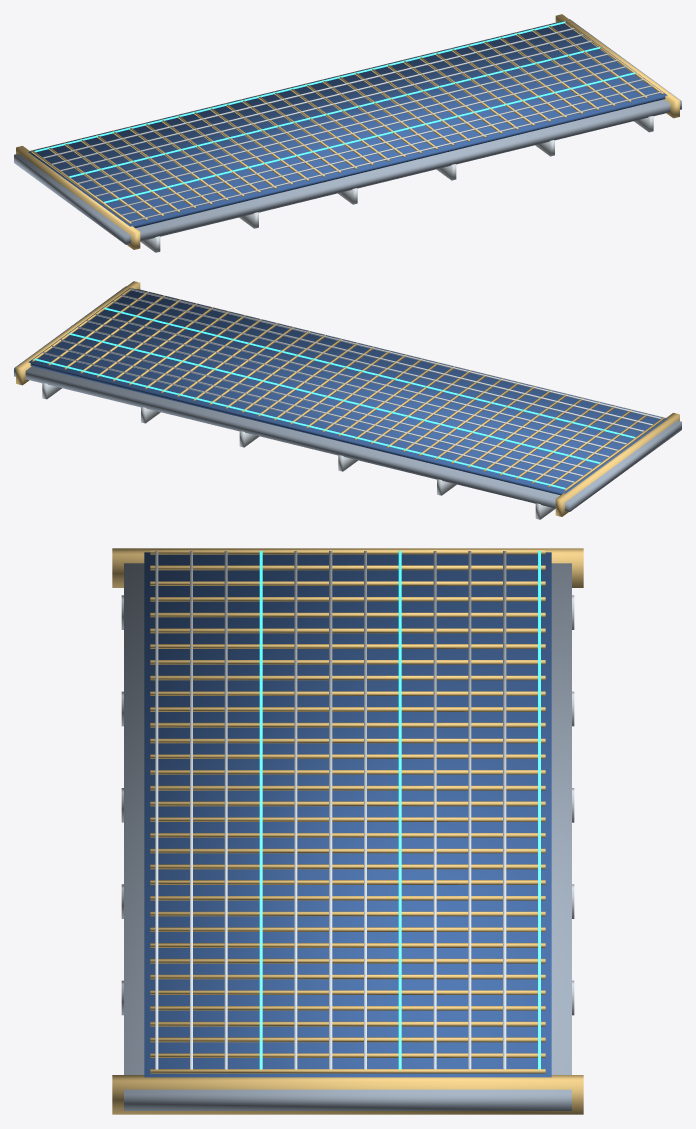
The model's file is 20_L90_Aurora1StarboardSolarArray.fbx.
The picture shows the model from 3 angles, top to bottom: view 1: azimuth 30°, elevation 25°; view 2: azimuth 150°, elevation 25°; view 3: azimuth 270°, elevation 25°; orthographic projection. The views are drawn at different scales.
Parts seen in each view (by area): view 1: L90_Aurora1StarboardSolarArra_Part_0001, L90_Aurora1StarboardSolarArra_Part_0005, L90_Aurora1StarboardSolarArra_Part_0000, L90_Aurora1StarboardSolarArra_Part_0003, L90_Aurora1StarboardSolarArra_Part_0002, L90_Aurora1StarboardSolarArra_Part_0004; view 2: L90_Aurora1StarboardSolarArra_Part_0001, L90_Aurora1StarboardSolarArra_Part_0005, L90_Aurora1StarboardSolarArra_Part_0000, L90_Aurora1StarboardSolarArra_Part_0003, L90_Aurora1StarboardSolarArra_Part_0002, L90_Aurora1StarboardSolarArra_Part_0004; view 3: L90_Aurora1StarboardSolarArra_Part_0001, L90_Aurora1StarboardSolarArra_Part_0003, L90_Aurora1StarboardSolarArra_Part_0002, L90_Aurora1StarboardSolarArra_Part_0000, L90_Aurora1StarboardSolarArra_Part_0005, L90_Aurora1StarboardSolarArra_Part_0004.
Boxes of the visible parts, x1,y1,x2,y2 form: L90_Aurora1StarboardSolarArra_Part_0001: (28, 21, 667, 228); L90_Aurora1StarboardSolarArra_Part_0005: (43, 27, 661, 252); L90_Aurora1StarboardSolarArra_Part_0000: (14, 19, 681, 244); L90_Aurora1StarboardSolarArra_Part_0003: (16, 14, 679, 249); L90_Aurora1StarboardSolarArra_Part_0002: (31, 79, 421, 224); L90_Aurora1StarboardSolarArra_Part_0004: (34, 21, 635, 203); L90_Aurora1StarboardSolarArra_Part_0001: (28, 288, 667, 495); L90_Aurora1StarboardSolarArra_Part_0005: (42, 288, 661, 519); L90_Aurora1StarboardSolarArra_Part_0000: (14, 286, 681, 511); L90_Aurora1StarboardSolarArra_Part_0003: (16, 281, 679, 516); L90_Aurora1StarboardSolarArra_Part_0002: (274, 346, 664, 491); L90_Aurora1StarboardSolarArra_Part_0004: (34, 307, 635, 489); L90_Aurora1StarboardSolarArra_Part_0001: (144, 552, 551, 1077); L90_Aurora1StarboardSolarArra_Part_0003: (112, 548, 583, 1114); L90_Aurora1StarboardSolarArra_Part_0002: (150, 549, 545, 837); L90_Aurora1StarboardSolarArra_Part_0000: (124, 563, 571, 1110); L90_Aurora1StarboardSolarArra_Part_0005: (121, 551, 574, 1069); L90_Aurora1StarboardSolarArra_Part_0004: (259, 551, 540, 1069).
Bounding box in the file's own units: 8.45 × 0.425 × 3.1.
